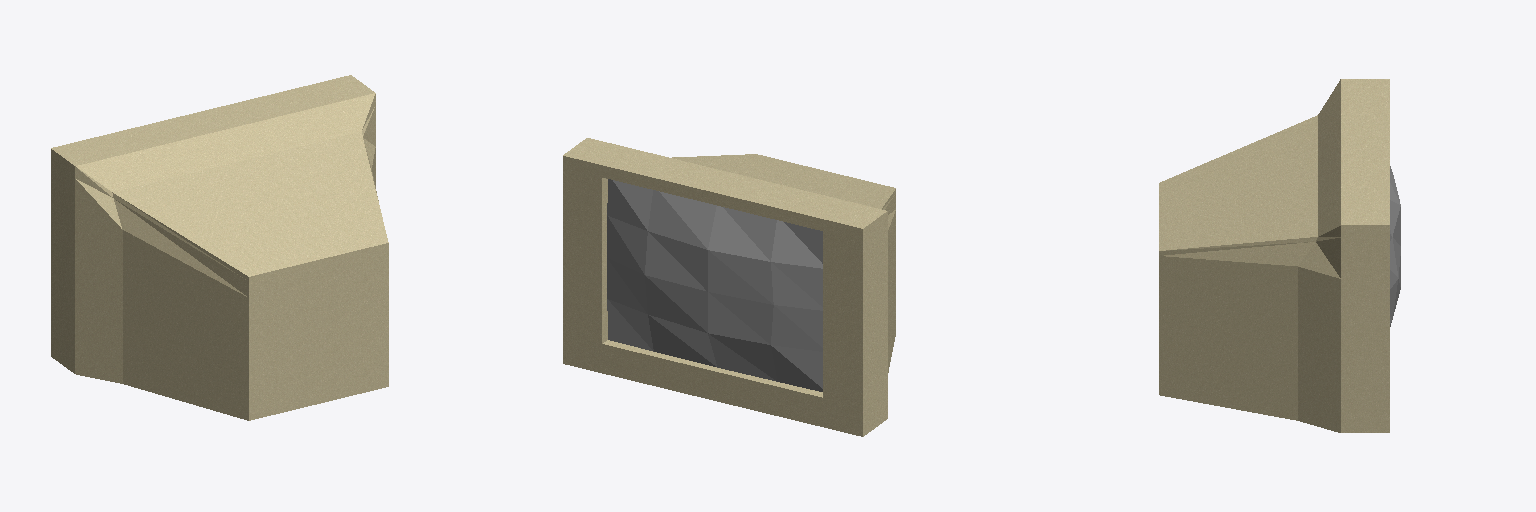
3 views of the same model, side by side, from view 1: azimuth 30°, elevation 25°; view 2: azimuth 150°, elevation 25°; view 3: azimuth 270°, elevation 25° (orthographic).
Visible parts, largest first — view 1: Cube; view 2: Cube, Cube.001; view 3: Cube, Cube.001.
Part boxes in pixels (x1,y1,x2,y2): Cube: (51, 75, 388, 420); Cube: (563, 138, 895, 436); Cube.001: (607, 179, 822, 391); Cube: (1159, 79, 1389, 432); Cube.001: (1390, 166, 1400, 326).
Size of the model in its own units: 7.55 by 5 by 5.28.
2 materials, 1 textured.